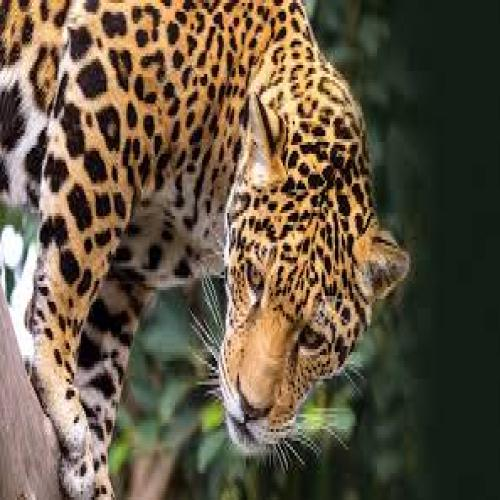jaguar_not-endangered: (0, 0, 400, 449)
